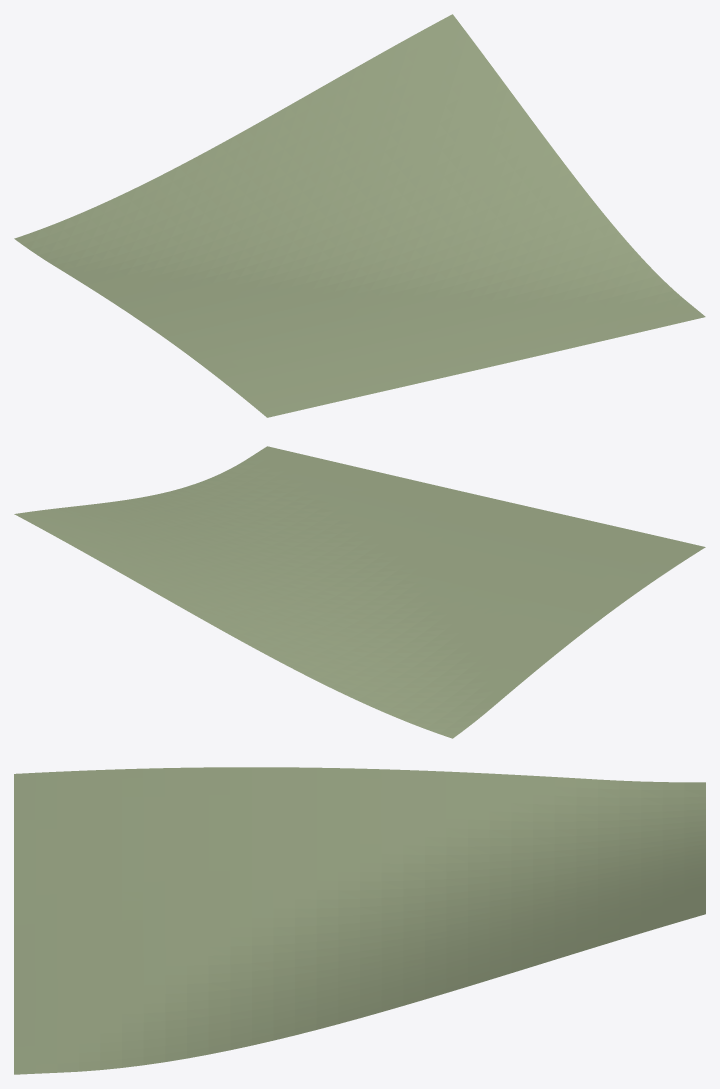
The model's file is desert-24-22.glb.
3 views of the same model, one above another, from view 1: azimuth 30°, elevation 25°; view 2: azimuth 150°, elevation 25°; view 3: azimuth 270°, elevation 25° (orthographic). The views are drawn at different scales.
Visible parts, largest first — view 1: desert-24-22; view 2: desert-24-22; view 3: desert-24-22.
Boxes of the visible parts, <box> form: desert-24-22: <box>14,14,705,417</box>; desert-24-22: <box>14,446,705,738</box>; desert-24-22: <box>14,767,705,1074</box>.
Bounding box in the file's own units: 512 × 131 × 512.
